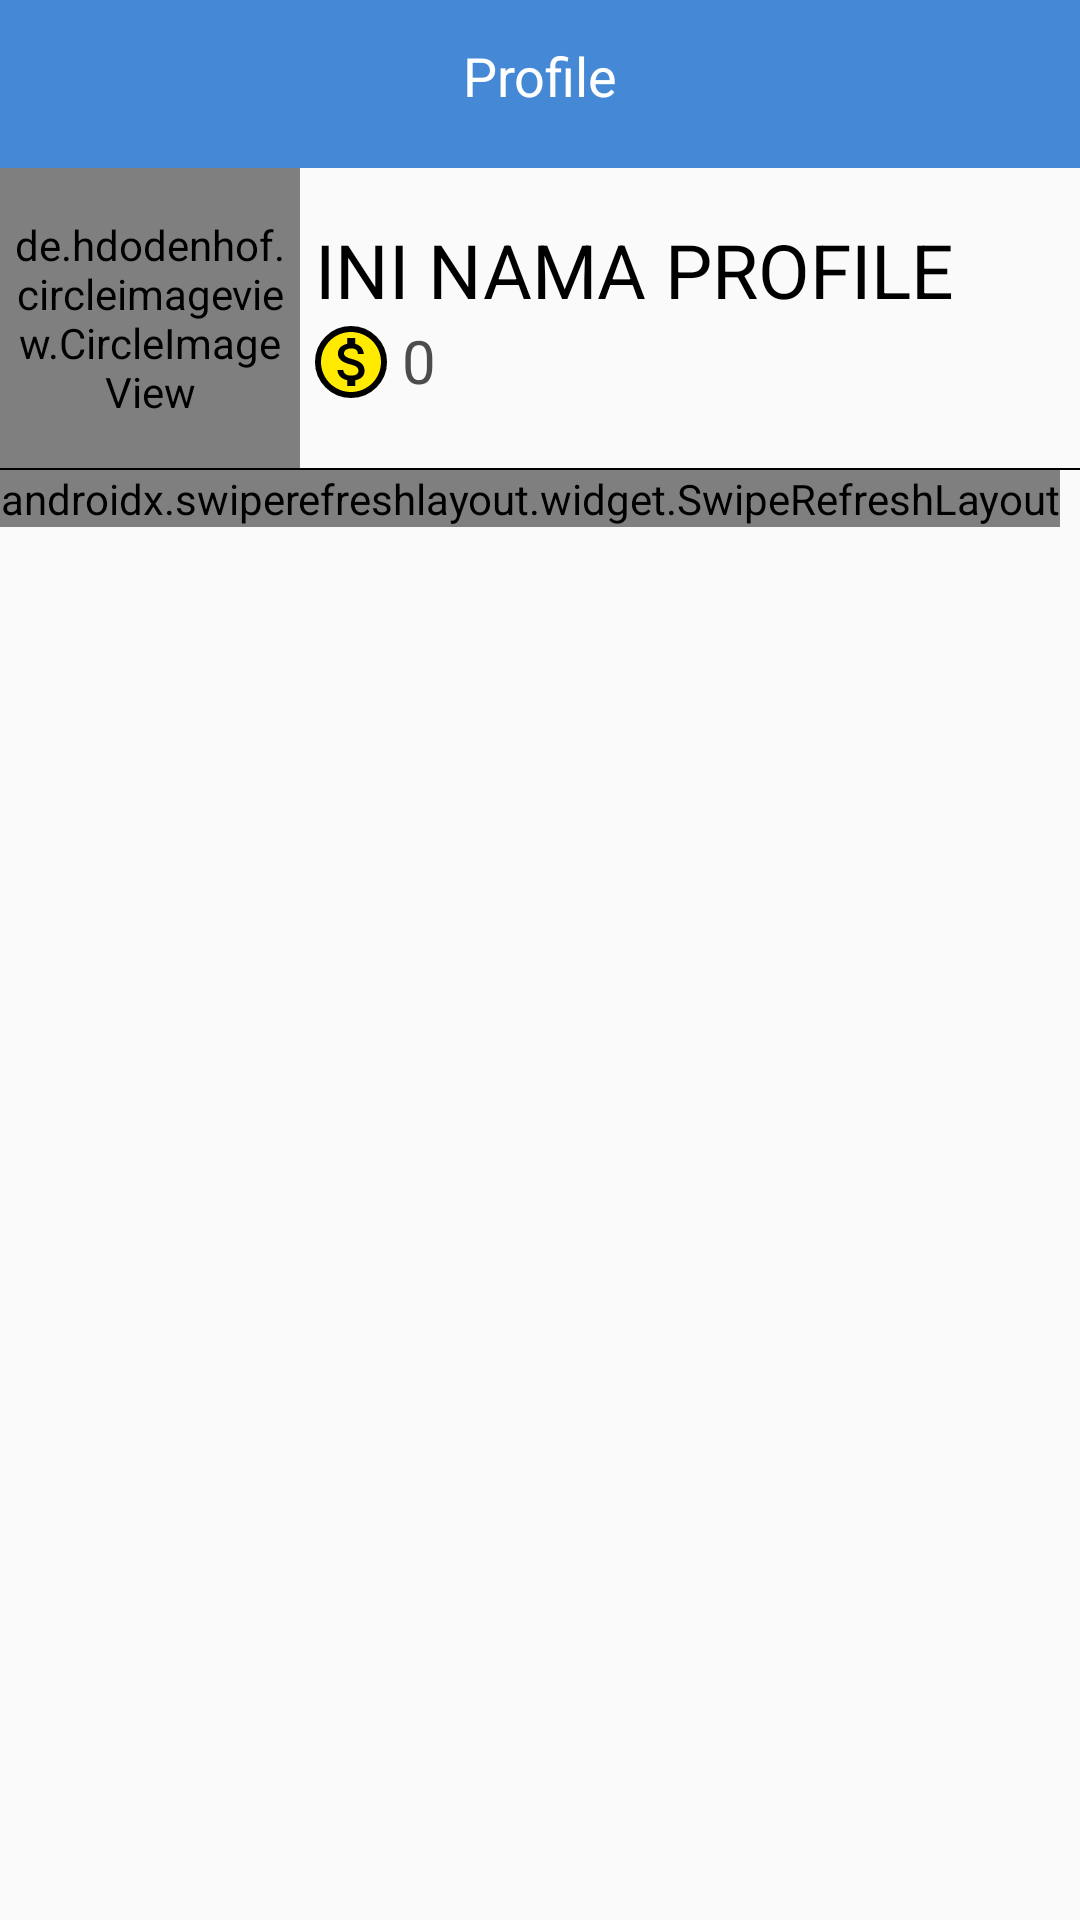

Where icons sit on this 1080px x 1920px app screen, as (x1, y1, x2, y2):
saldo: (315, 326, 387, 398)
